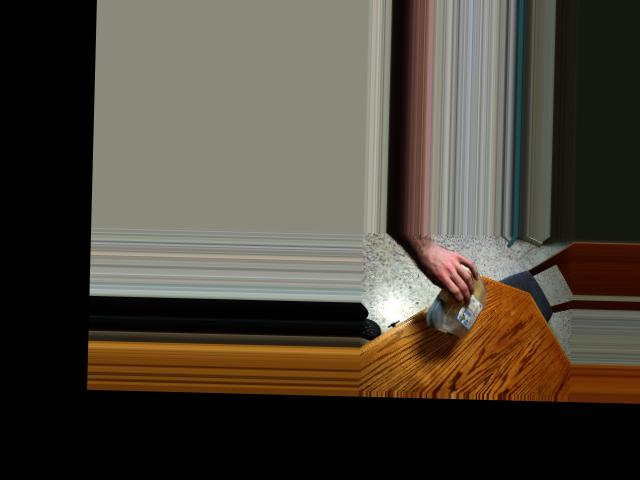cheese: (442, 274, 485, 332)
